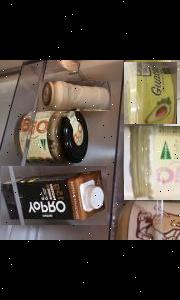Guacamole: (123, 62, 176, 124)
Yogur: (0, 166, 106, 225), (122, 125, 180, 200), (38, 82, 110, 112)
